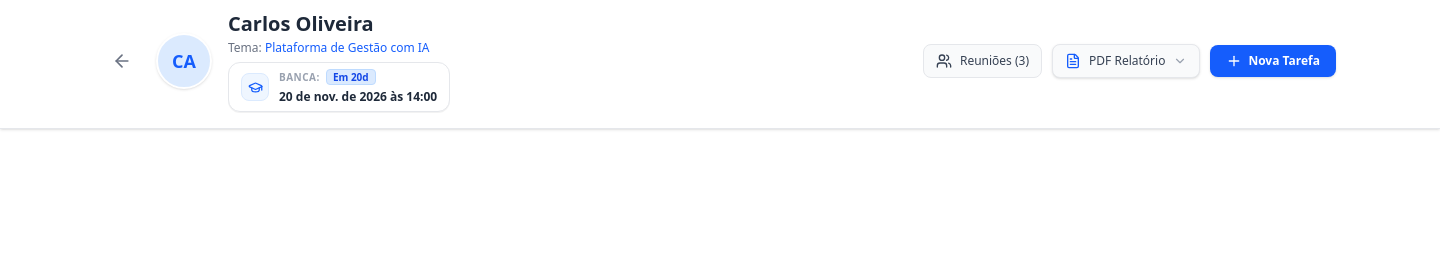
StudentHeader - PDF Report Usability › closes dropdown menu when Escape key is pressed
Click the button with aria-label "ações de relatório em pdf".
click(1126, 61)  # box [1052,44,1200,78]
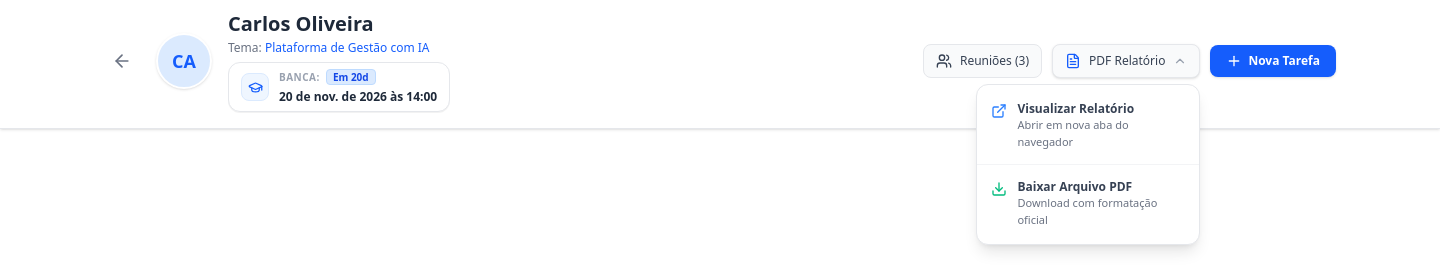
expect the menu item "Visualizar Relatório Abrir em nova aba do navegador" is shown: met, box [977,91,1199,160]
Press Escape
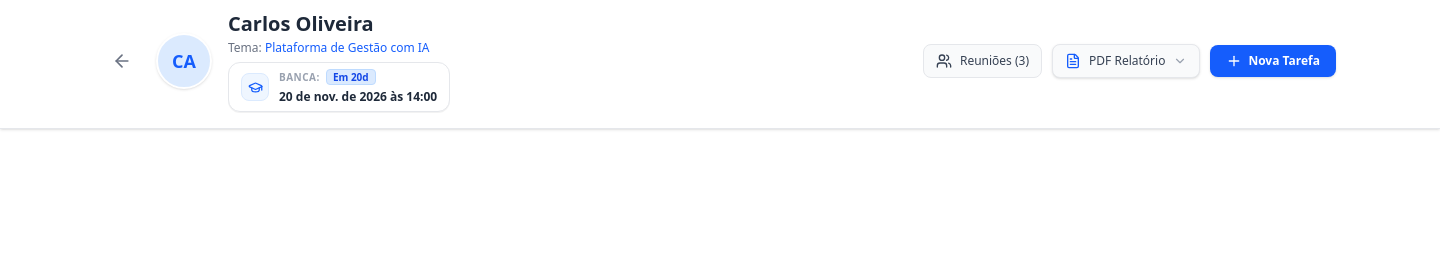
expect the menu item "Visualizar Relatório" is gone: met
